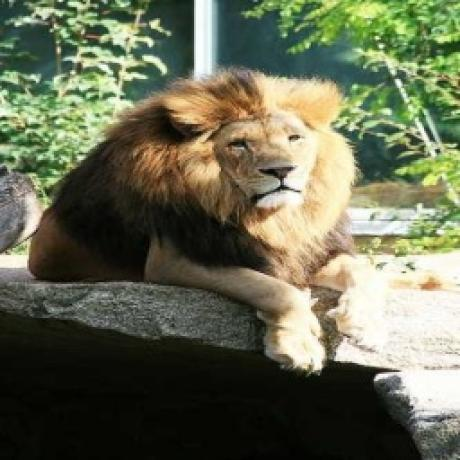Lion: (26, 57, 360, 377)
